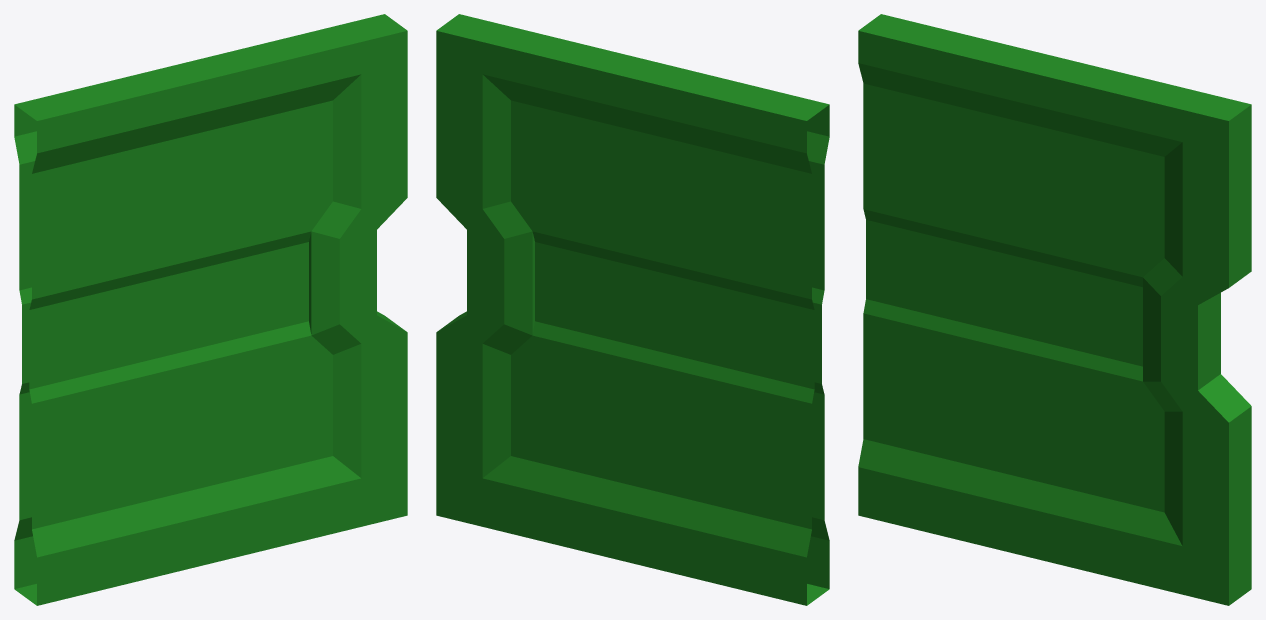
Rendered from Puzzle_001_Door_Main_R.fbx.
The picture shows the model from 3 angles, left to right: view 1: azimuth 30°, elevation 25°; view 2: azimuth 150°, elevation 25°; view 3: azimuth 330°, elevation 25°; orthographic projection.
Parts seen in each view (by area): view 1: Puzzle_001_Door_Main_R; view 2: Puzzle_001_Door_Main_R; view 3: Puzzle_001_Door_Main_R.
Part boxes in pixels (x1,y1,x2,y2): Puzzle_001_Door_Main_R: [14, 14, 407, 605]; Puzzle_001_Door_Main_R: [436, 14, 829, 605]; Puzzle_001_Door_Main_R: [858, 14, 1251, 605].
Size of the model in its own units: 240 by 300 by 25.63.
